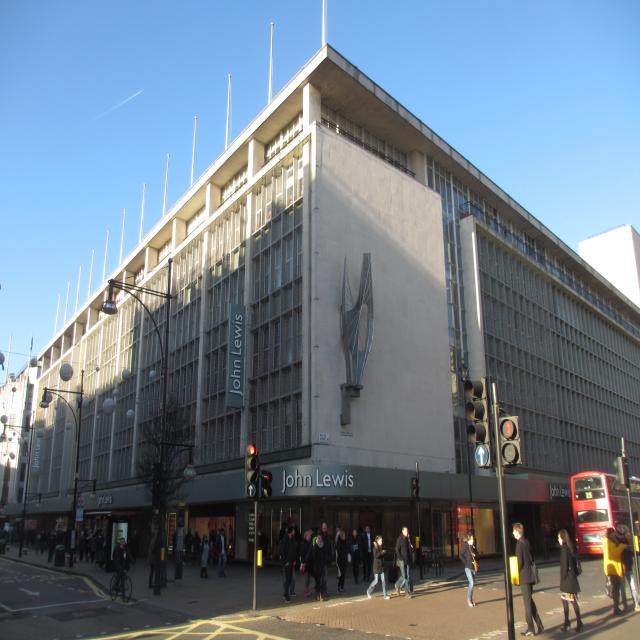body: (540, 597, 636, 640), (510, 520, 545, 636), (556, 528, 586, 634), (612, 519, 640, 614), (602, 526, 631, 614), (365, 534, 391, 600), (428, 573, 504, 595), (474, 585, 562, 604), (458, 532, 479, 608), (394, 525, 413, 600), (280, 524, 298, 600), (282, 522, 298, 604), (309, 532, 327, 603), (395, 528, 414, 593), (112, 537, 130, 600), (334, 530, 349, 596), (300, 530, 314, 597), (320, 522, 332, 597), (347, 527, 362, 586), (362, 524, 376, 582), (147, 529, 158, 589), (215, 528, 228, 578), (198, 534, 211, 578), (371, 590, 427, 600), (182, 527, 195, 566), (332, 523, 341, 579), (160, 528, 168, 588), (98, 534, 110, 569), (192, 530, 202, 566), (56, 528, 70, 553), (69, 531, 79, 564), (93, 528, 102, 563), (132, 529, 140, 567), (47, 530, 56, 563), (84, 530, 92, 564), (171, 528, 179, 561), (78, 531, 86, 562), (209, 529, 216, 560), (40, 529, 47, 557), (308, 526, 317, 547), (35, 530, 42, 556), (27, 531, 33, 549), (4, 532, 10, 547), (313, 526, 321, 536), (12, 530, 15, 542)
